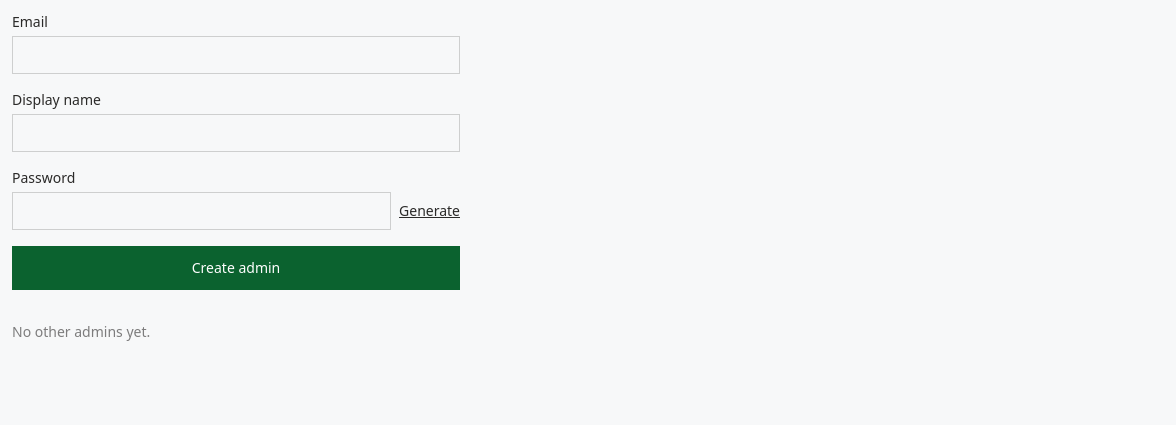
Test: submits the create form, toasts success, and reloads the list
Type "new@b.com" into the field labelled "Email" at (236, 55), box [12, 36, 460, 74]
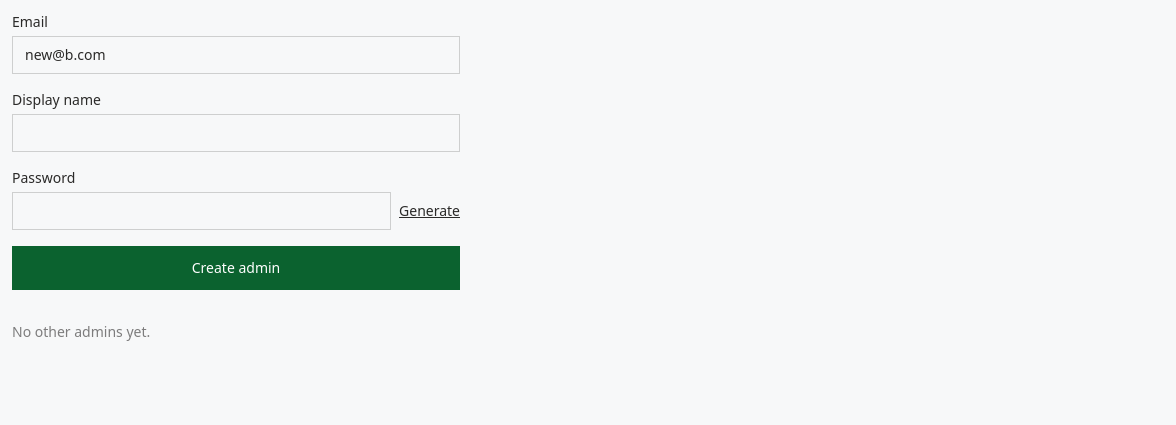
Type "strong-pass" into the field labelled "Password" at (202, 211), box [12, 192, 391, 230]
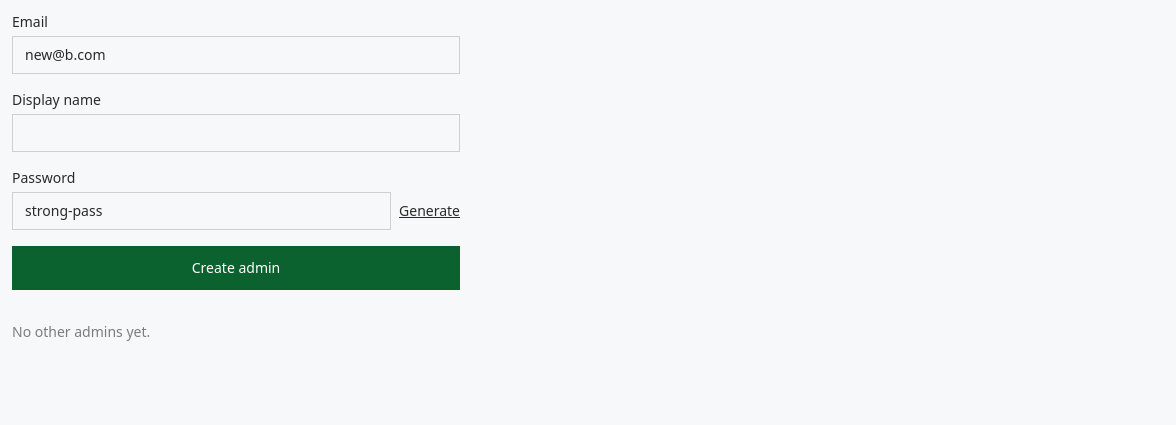
Click the button "Create admin" at (236, 268), box [12, 246, 460, 290]
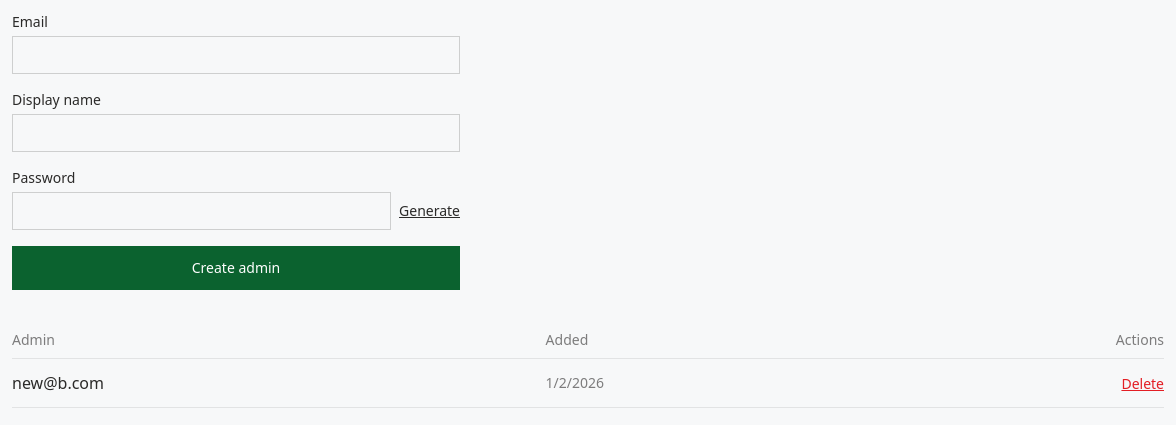
Expected: the text "new@b.com" is shown, [12, 372, 104, 394]
